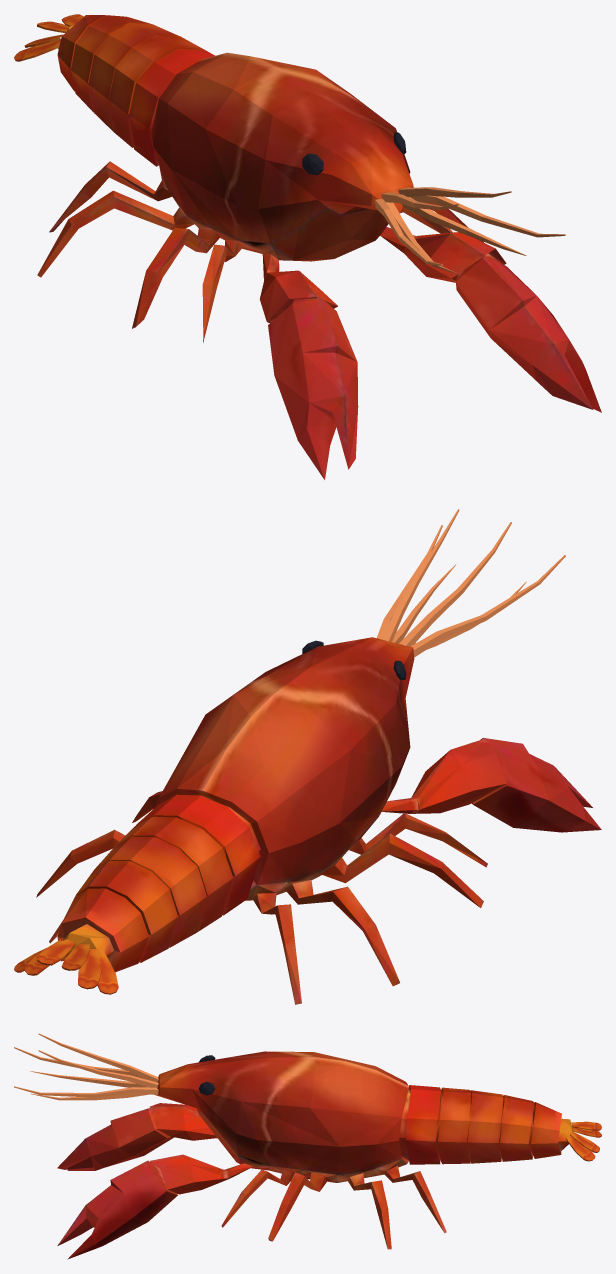
The model's file is animals-crawfish-053.glb.
3 renders of one model, top to bottom at view 1: azimuth 30°, elevation 25°; view 2: azimuth 150°, elevation 25°; view 3: azimuth 270°, elevation 25°, orthographic. The views are drawn at different scales.
Parts seen in each view (by area): view 1: Node; view 2: Node; view 3: Node.
Part boxes in pixels (x1=…): Node: x1=14, y1=14, x2=601, y2=479; Node: x1=14, y1=509, x2=601, y2=1004; Node: x1=14, y1=1033, x2=601, y2=1259.
Size of the model in its own units: 6.84 by 4.77 by 14.64.
Materials: 4 (2 with a texture image).
